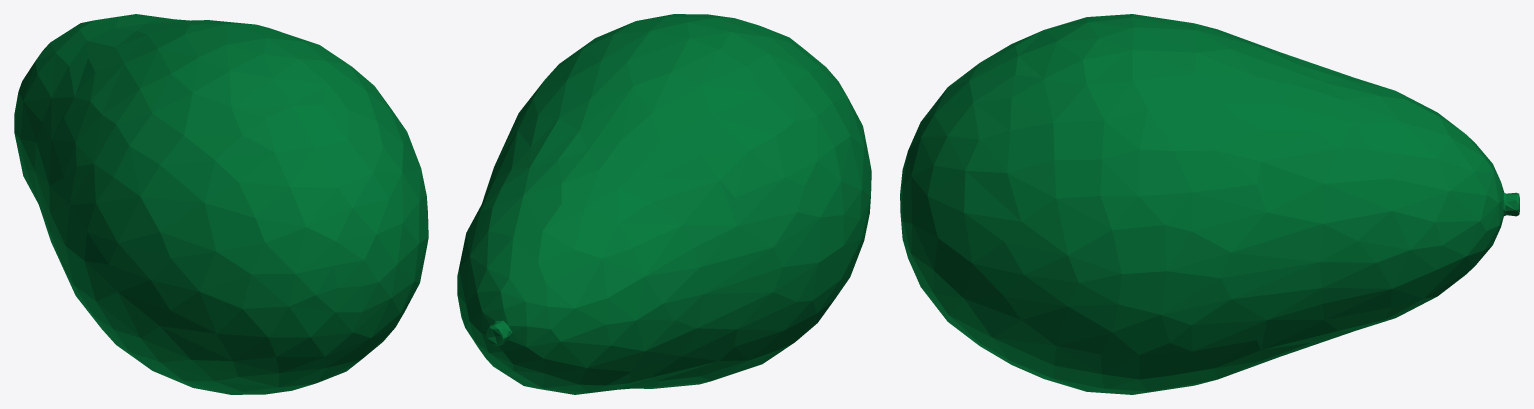
Rendered from avocado.dae.
3 views of the same model, side by side, from view 1: azimuth 30°, elevation 25°; view 2: azimuth 150°, elevation 25°; view 3: azimuth 270°, elevation 25° (orthographic). The views are drawn at different scales.
Visible parts, largest first — view 1: node0; view 2: node0; view 3: node0.
Part boxes in pixels (left/top/right/bottom): node0: left=14, top=14, right=428, bottom=394; node0: left=457, top=14, right=871, bottom=394; node0: left=900, top=14, right=1519, bottom=394.
Bounding box in the file's own units: 0.0793 × 0.1293 × 0.0792.
